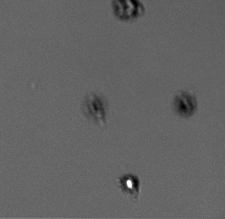Dead Cell: (112, 1, 143, 19), (84, 95, 106, 118), (175, 93, 196, 115)
Living Cell: (120, 175, 137, 193)
